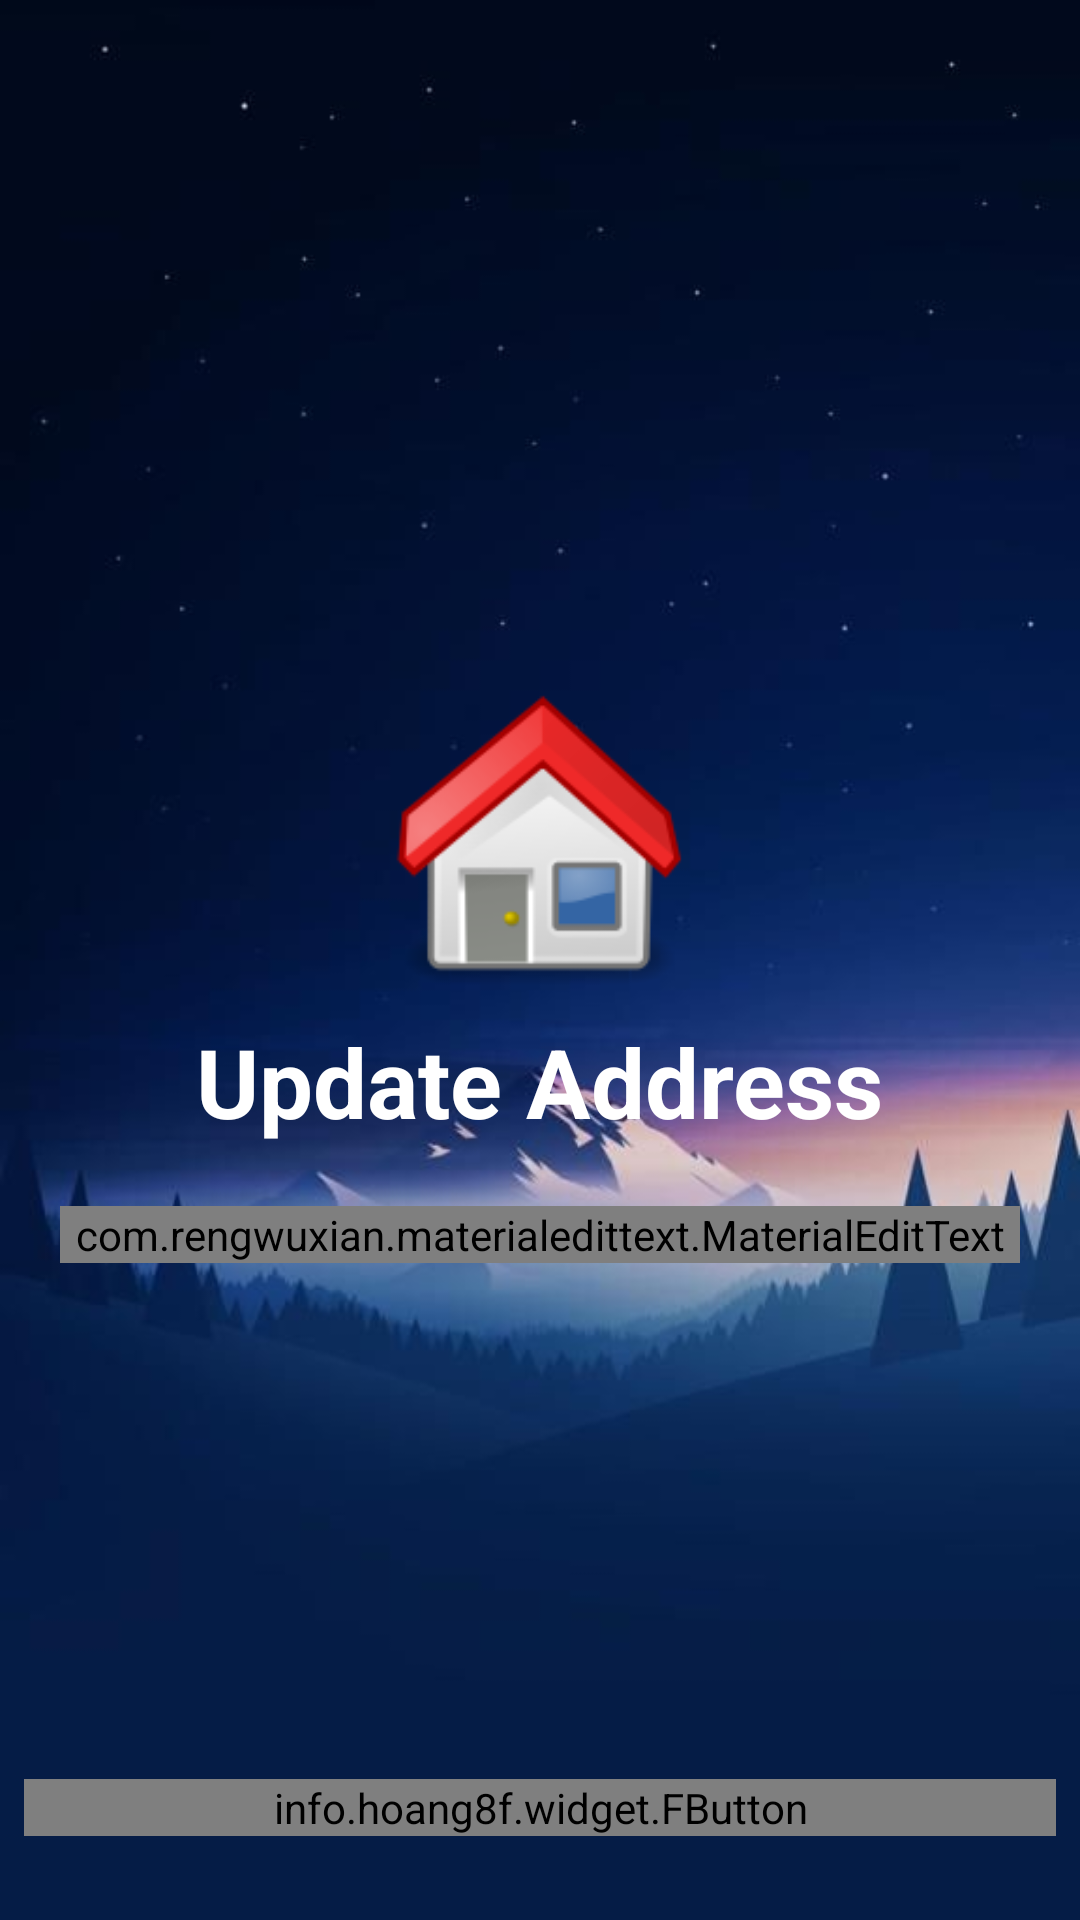

Where to tap for icons on this 1080px×1920px app screen, as [x,y]:
iconfinder home: [543,841]
